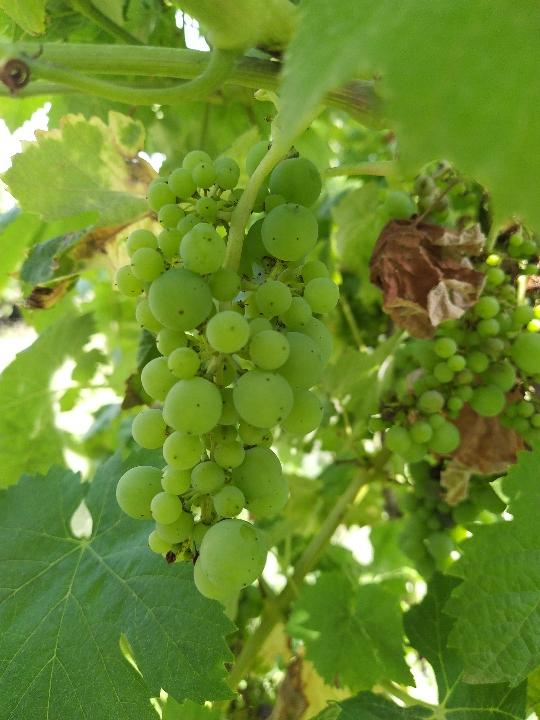grape: (110, 138, 343, 602)
